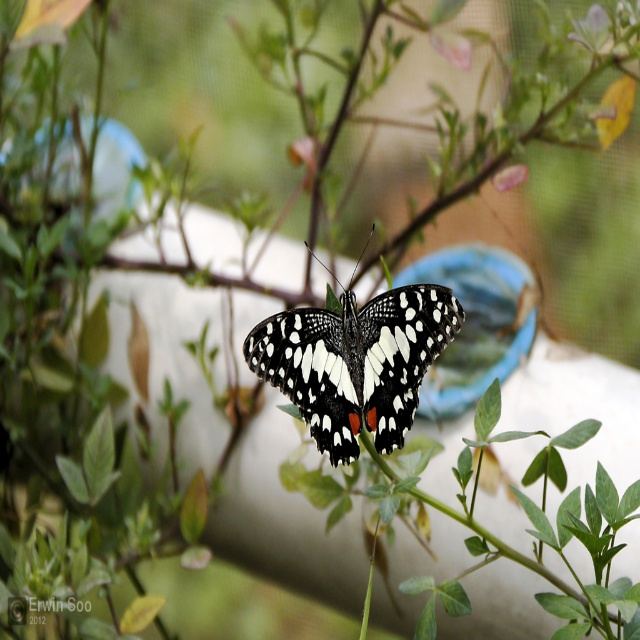Butterfly: (250, 225, 460, 468)
